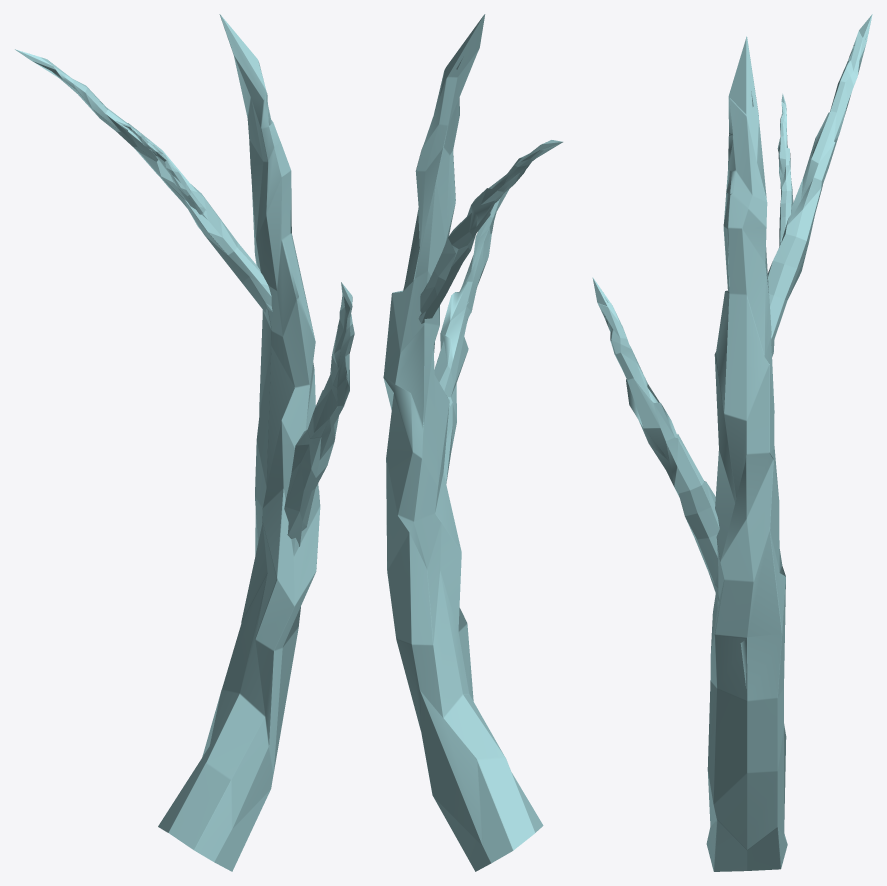
Rendered from IceTree_Branch_04.fbx.
The picture shows the model from 3 angles, left to right: view 1: azimuth 30°, elevation 25°; view 2: azimuth 150°, elevation 25°; view 3: azimuth 270°, elevation 25°; orthographic projection.
Parts seen in each view (by area): view 1: Branch_04; view 2: Branch_04; view 3: Branch_04.
Part boxes in pixels (box(x1,y1,x2,y2)): Branch_04: box(15, 14, 354, 871); Branch_04: box(383, 14, 562, 871); Branch_04: box(592, 14, 872, 871).
Size of the model in its own units: 67.91 by 232 by 70.19.
